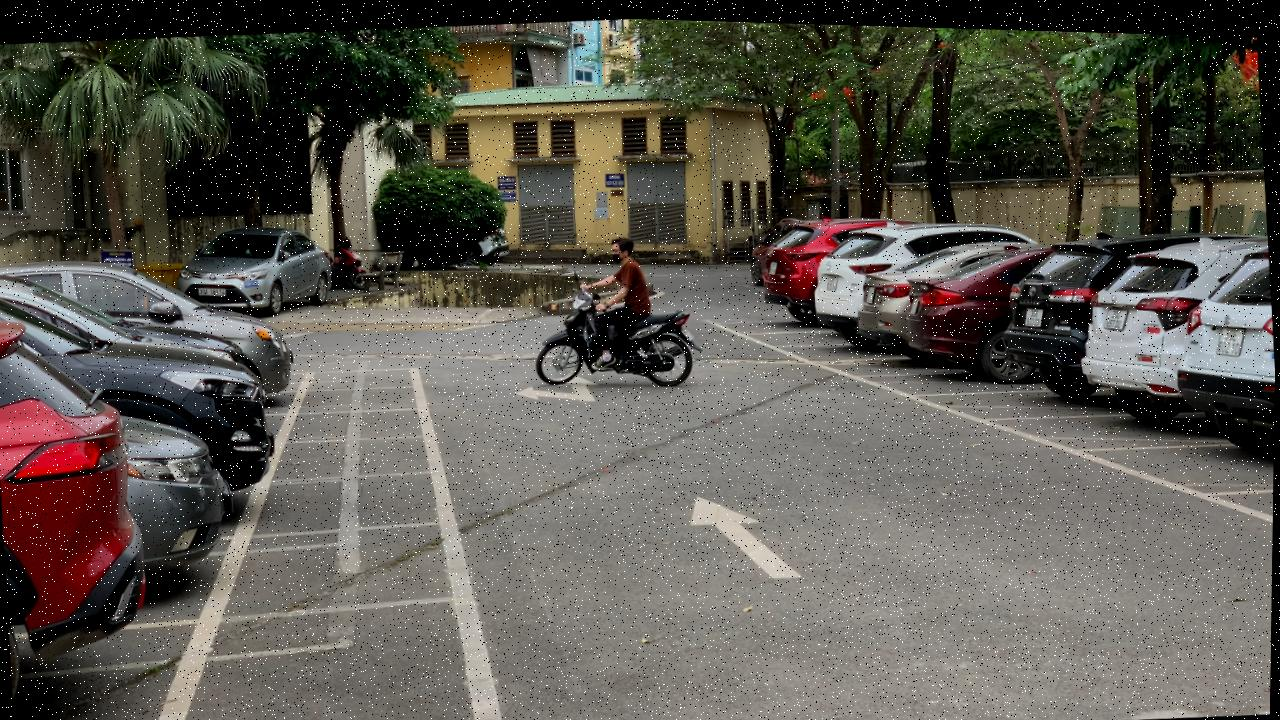motorcyclist: (527, 224, 707, 392)
